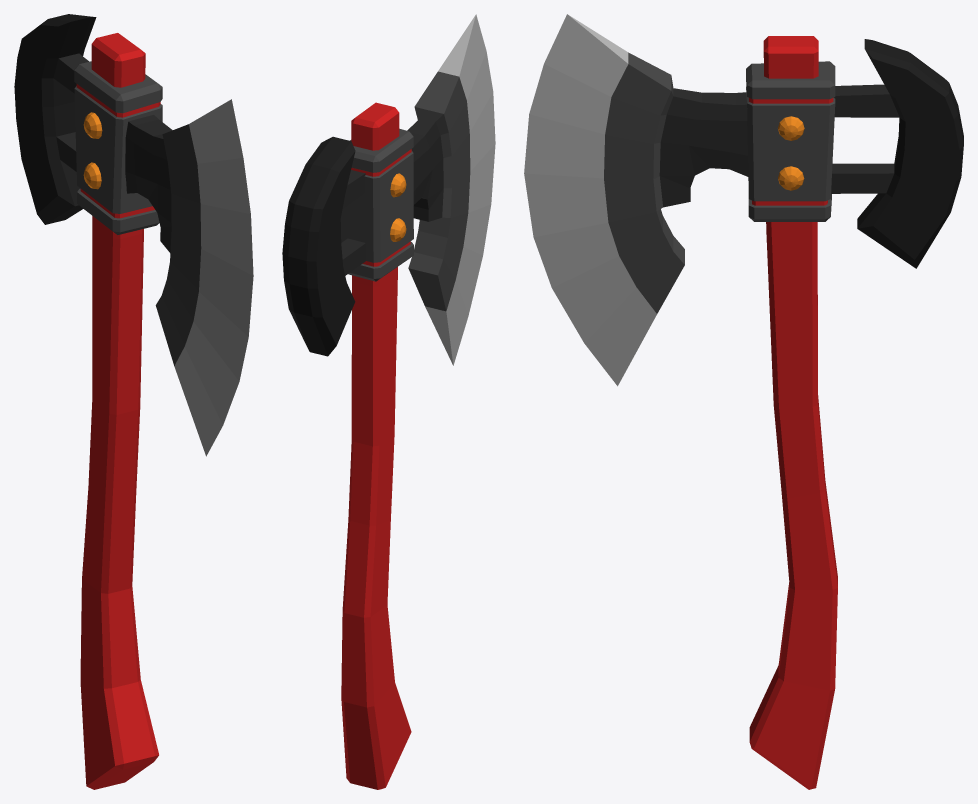
3 renders of one model, left to right at view 1: azimuth 30°, elevation 25°; view 2: azimuth 150°, elevation 25°; view 3: azimuth 270°, elevation 25°, orthographic. The views are drawn at different scales.
Parts seen in each view (by area): view 1: Axe02; view 2: Axe02; view 3: Axe02.
Part boxes in pixels (x1,y1,x2,y2): Axe02: [14, 14, 253, 789]; Axe02: [282, 14, 495, 789]; Axe02: [524, 14, 963, 789].
Bounding box in the file's own units: 11.38 × 67.02 × 129.
1 material, 1 textured.
